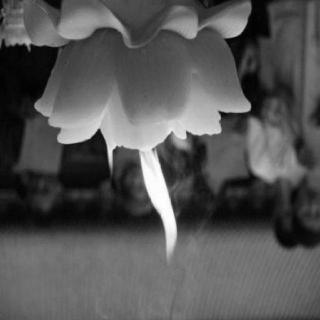Fire: (128, 146, 185, 266), (103, 144, 115, 180)
